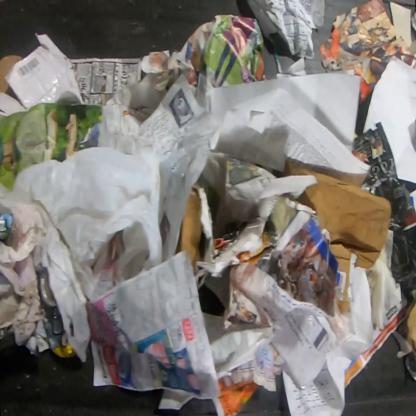cardboard: (282, 159, 392, 313), (176, 182, 279, 292), (0, 32, 86, 117), (405, 302, 415, 352)
metal: (37, 270, 77, 360)
soft_plastic: (0, 143, 165, 366), (161, 112, 218, 261)
